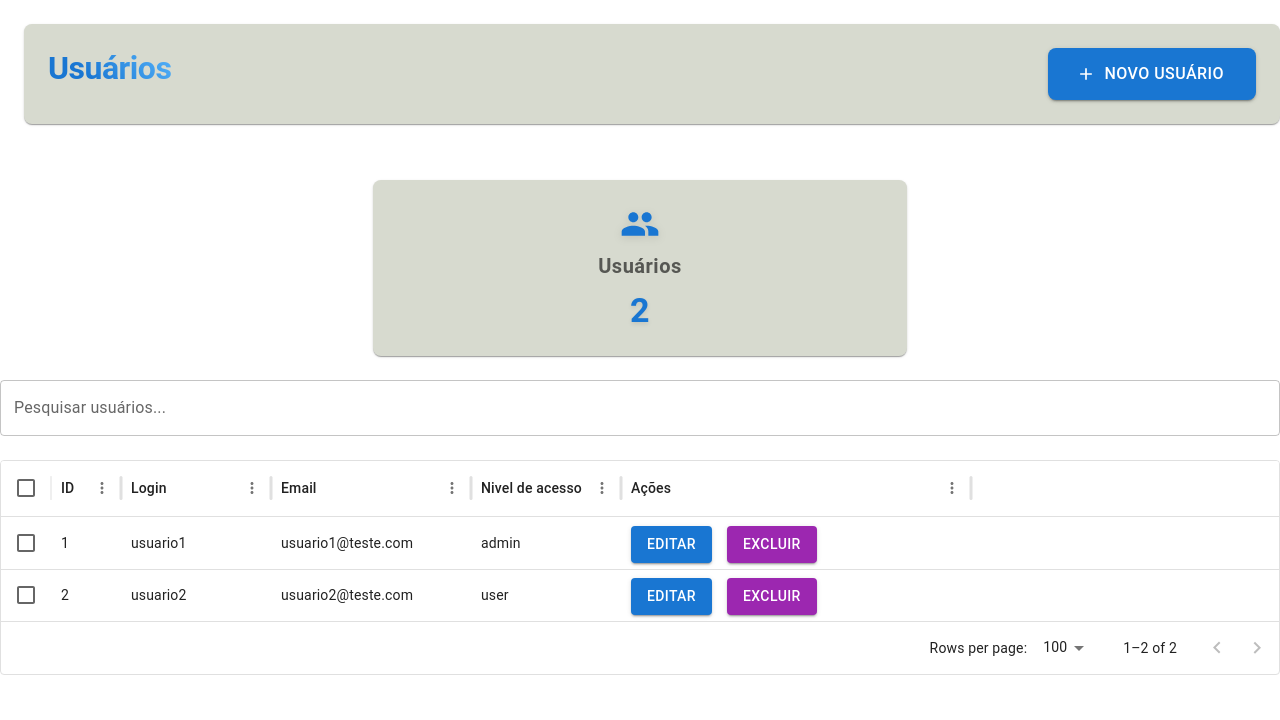
Componente Usuario › Abre formulário para edição ao clicar em Editar
Expected: the table is shown, 1,461 -> 1279,621
Click the button "Editar" in the row of "usuario1@teste.com". click: (672, 544)
box: 631,526 -> 712,562
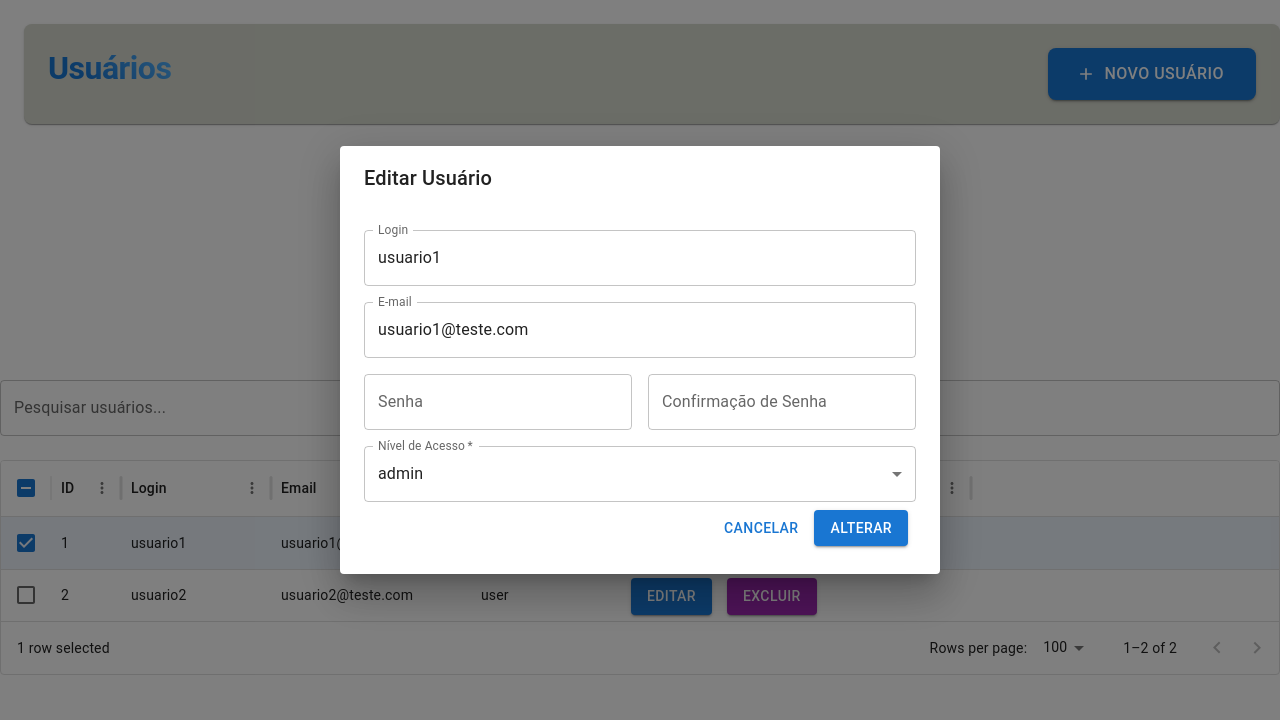
Expected: the dialog is shown, 340,146 -> 940,574
